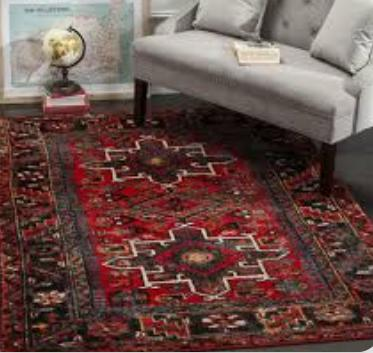carpet: (0, 95, 373, 351)
